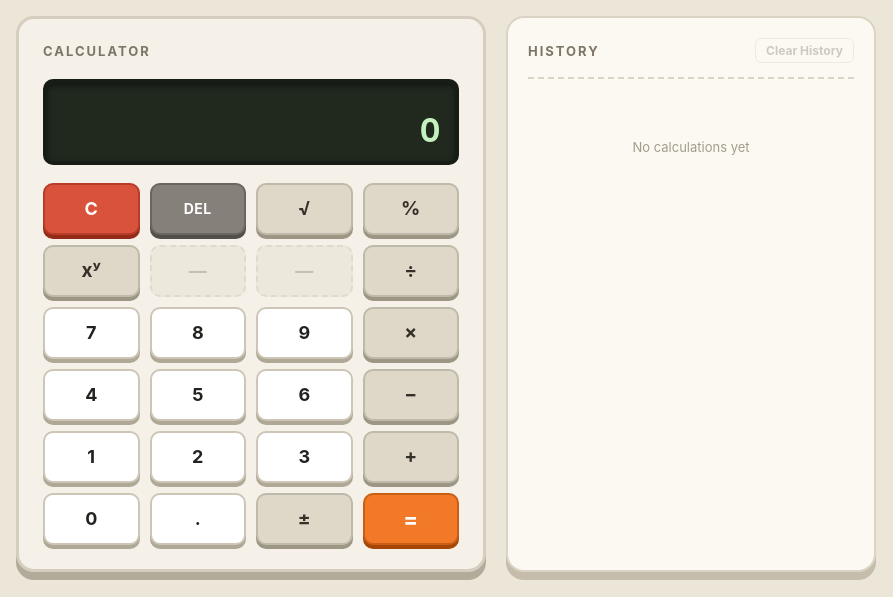
Test case: Calculator Component Integration › inputs digits and deletes with DEL button
Click the button "7": (91, 333) top-left (43, 307), bottom-right (140, 359)
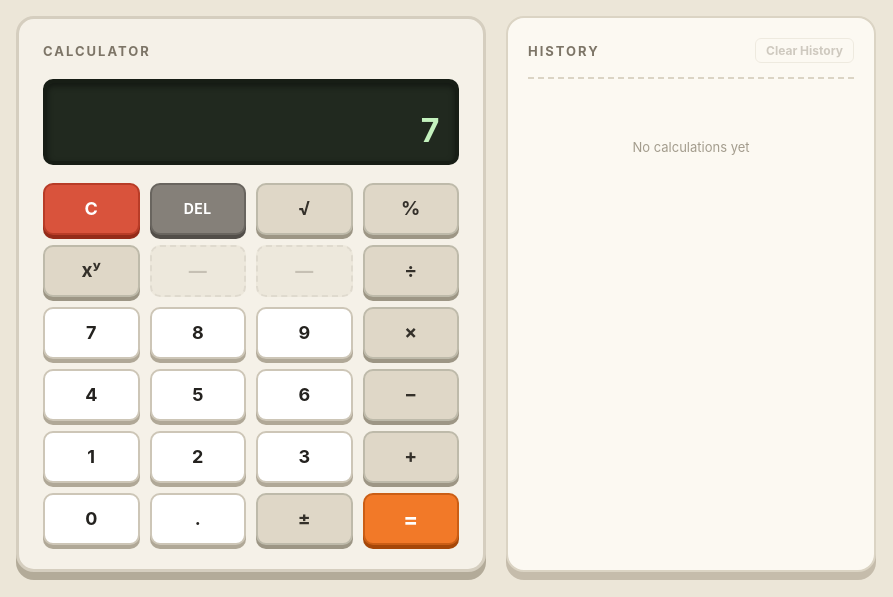
Click the button "8": (198, 333) top-left (150, 307), bottom-right (246, 359)
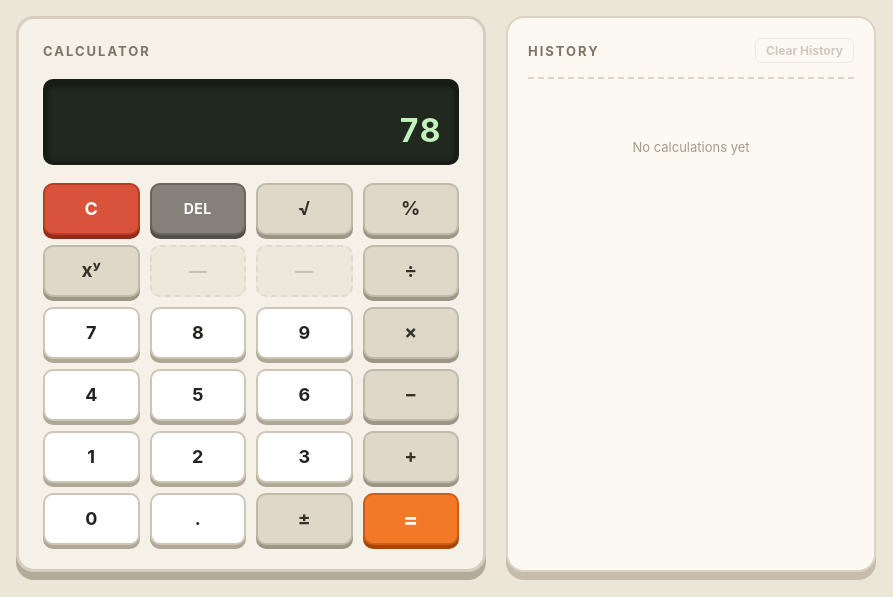
Expected: the text with test id "main-display" reads "78", top-left (399, 111), bottom-right (441, 150)
Click the button with aria-label "Delete last digit": (198, 209) top-left (150, 183), bottom-right (246, 235)
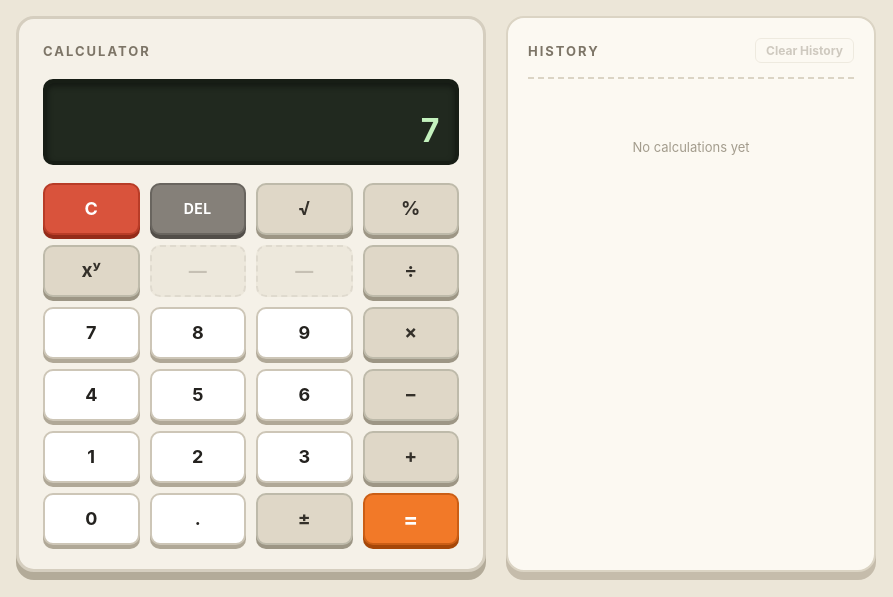
Expected: the text with test id "main-display" reads "7", top-left (420, 111), bottom-right (441, 150)
